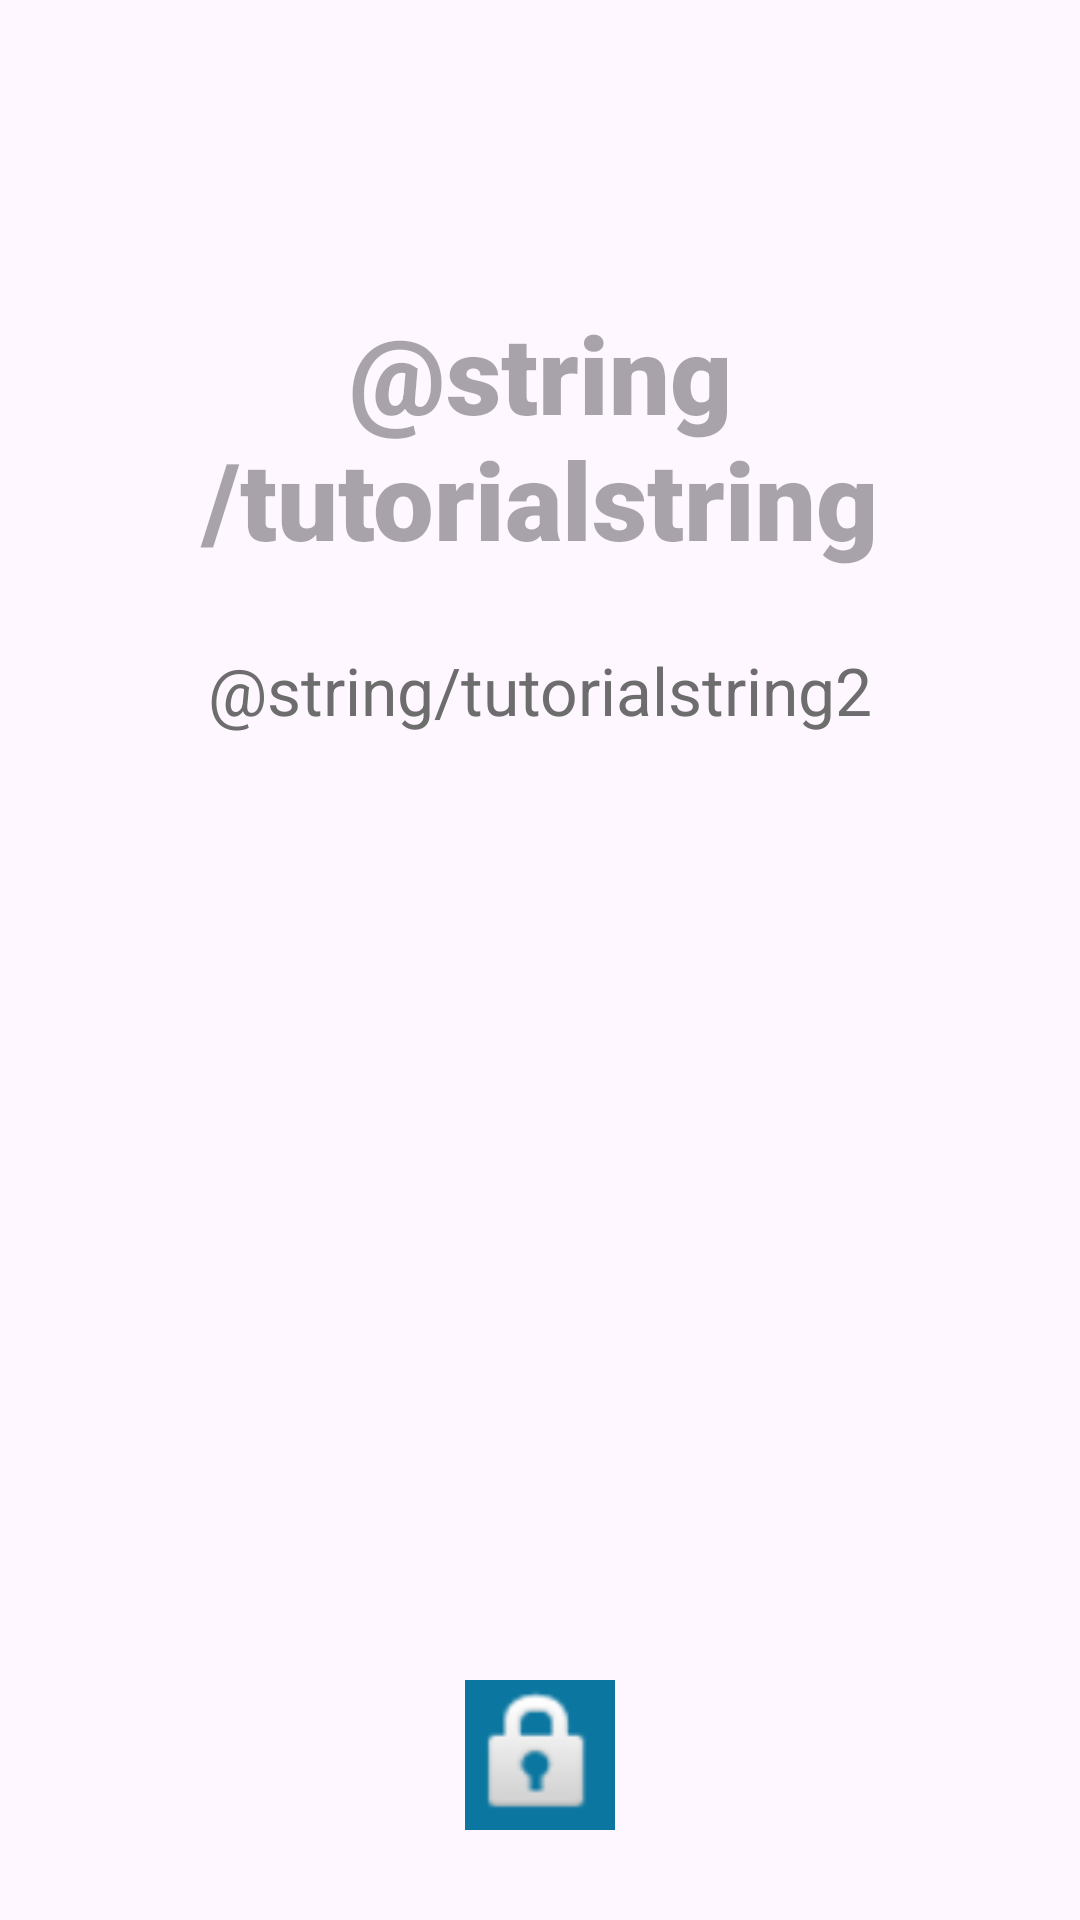

Where to tap for icons on this 1080px×1920px app screen, as point (x, y):
lock idle: point (540, 1755)
